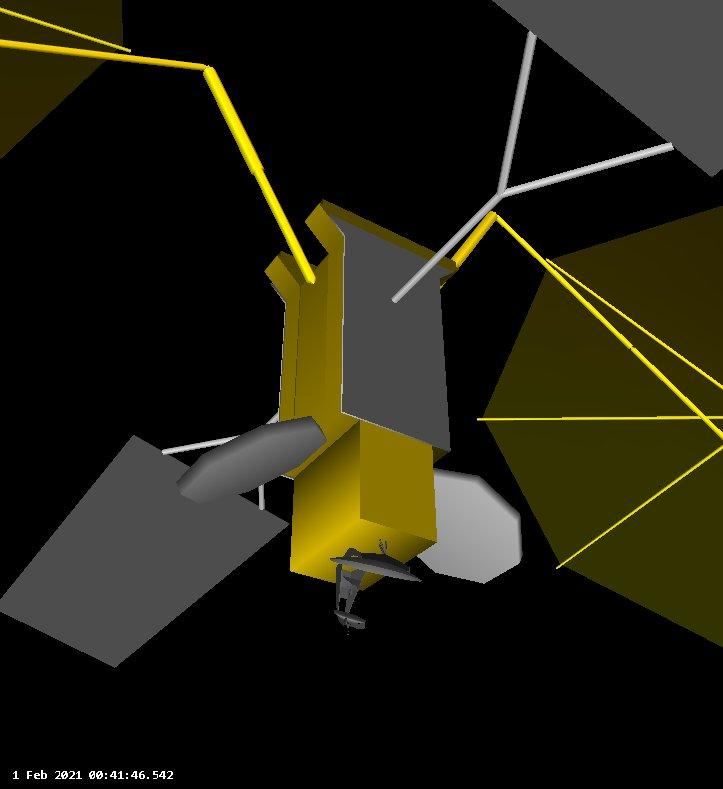antenna: (327, 550, 421, 592), (335, 611, 367, 634)
body: (261, 203, 465, 581)
solar: (2, 433, 283, 669)
